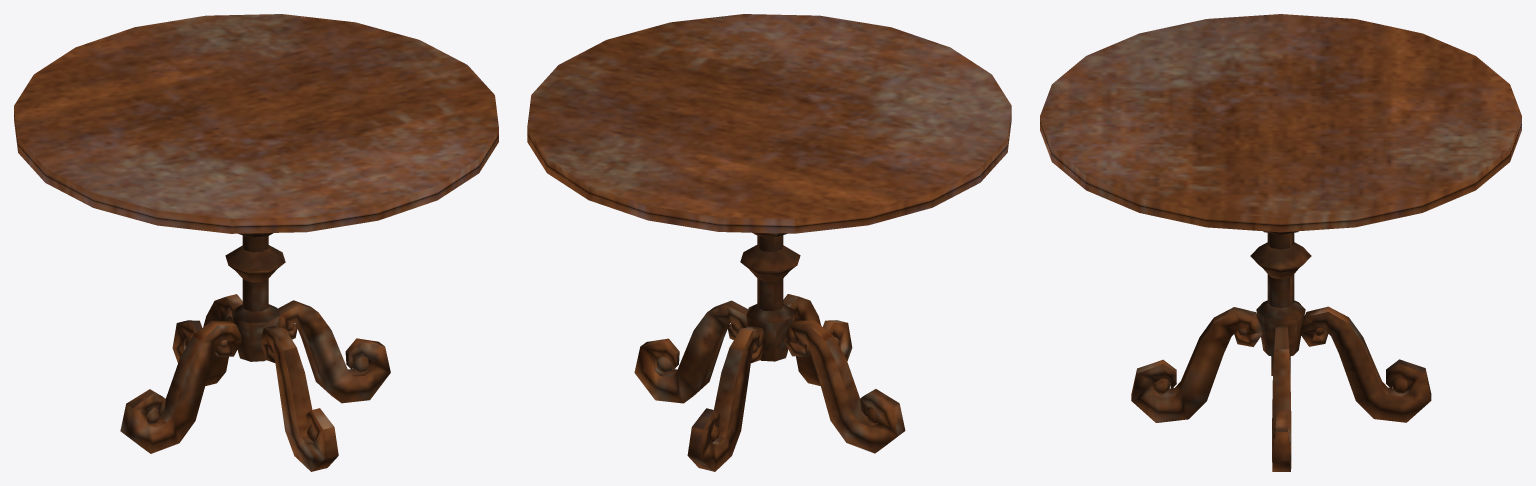
Rendered from round-tabletop.glb.
3 renders of one model, left to right at view 1: azimuth 30°, elevation 25°; view 2: azimuth 150°, elevation 25°; view 3: azimuth 270°, elevation 25°, orthographic.
Visible parts, largest first — view 1: Round.Tabletop, Round.Tabletop.Leg; view 2: Round.Tabletop, Round.Tabletop.Leg; view 3: Round.Tabletop, Round.Tabletop.Leg.
Boxes of the visible parts, box(x1,y1,x2,y2) form: Round.Tabletop: box(14, 14, 498, 441); Round.Tabletop.Leg: box(120, 294, 390, 471); Round.Tabletop: box(527, 14, 1011, 441); Round.Tabletop.Leg: box(634, 294, 905, 471); Round.Tabletop: box(1040, 14, 1521, 440); Round.Tabletop.Leg: box(1131, 306, 1431, 471).
Size of the model in its own units: 0.815 by 0.5666 by 0.815.
Materials: 1 (1 with a texture image).
